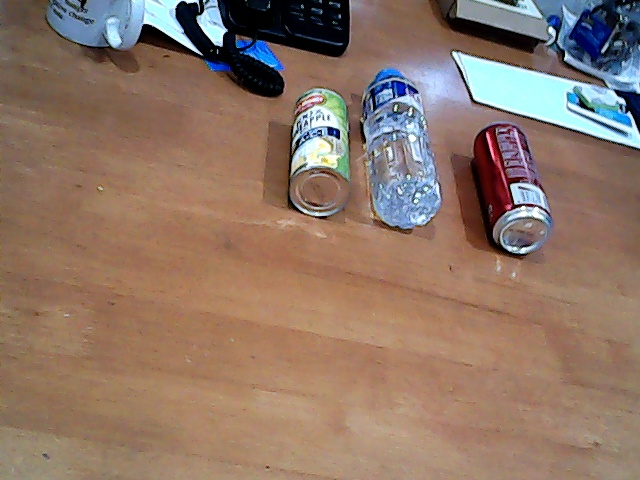Cola: (466, 119, 551, 257)
Pine Juice: (287, 75, 353, 220)
Summit Water: (356, 61, 443, 234)
